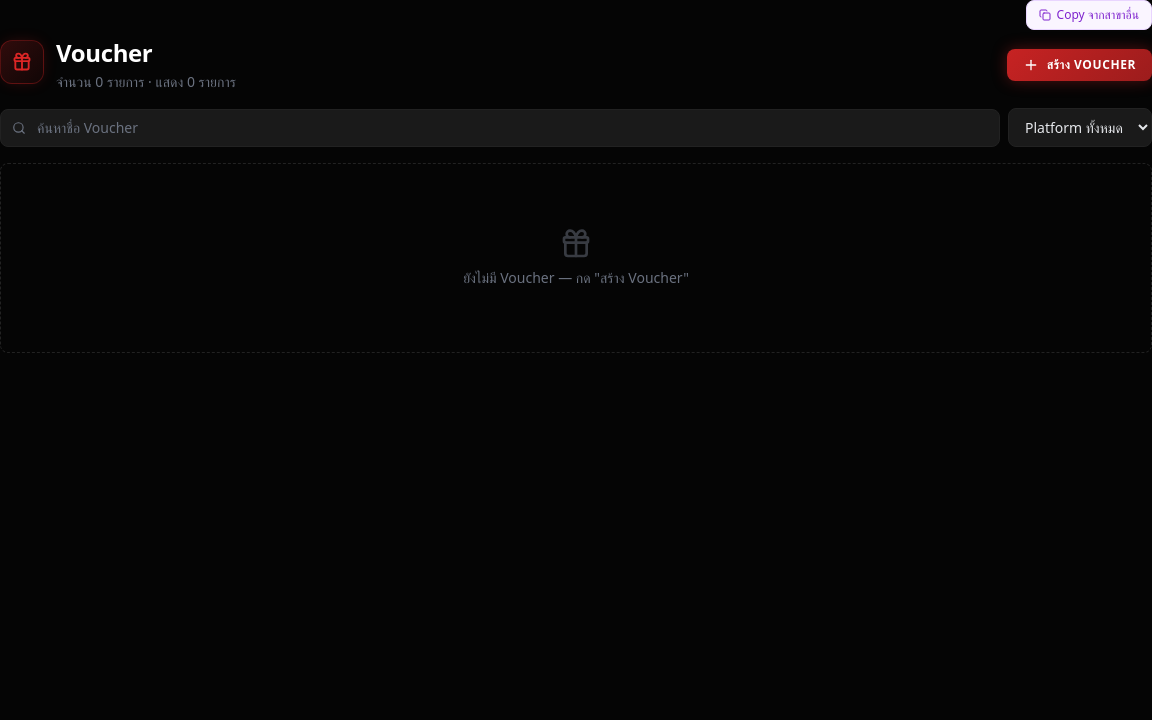
VoucherTab — create + validate › VC5 period toggle shows DateField
The image size is (1152, 720).
Click the button "สร้าง Voucher".
click(1079, 65)  # box left=1007, top=49, right=1151, bottom=81
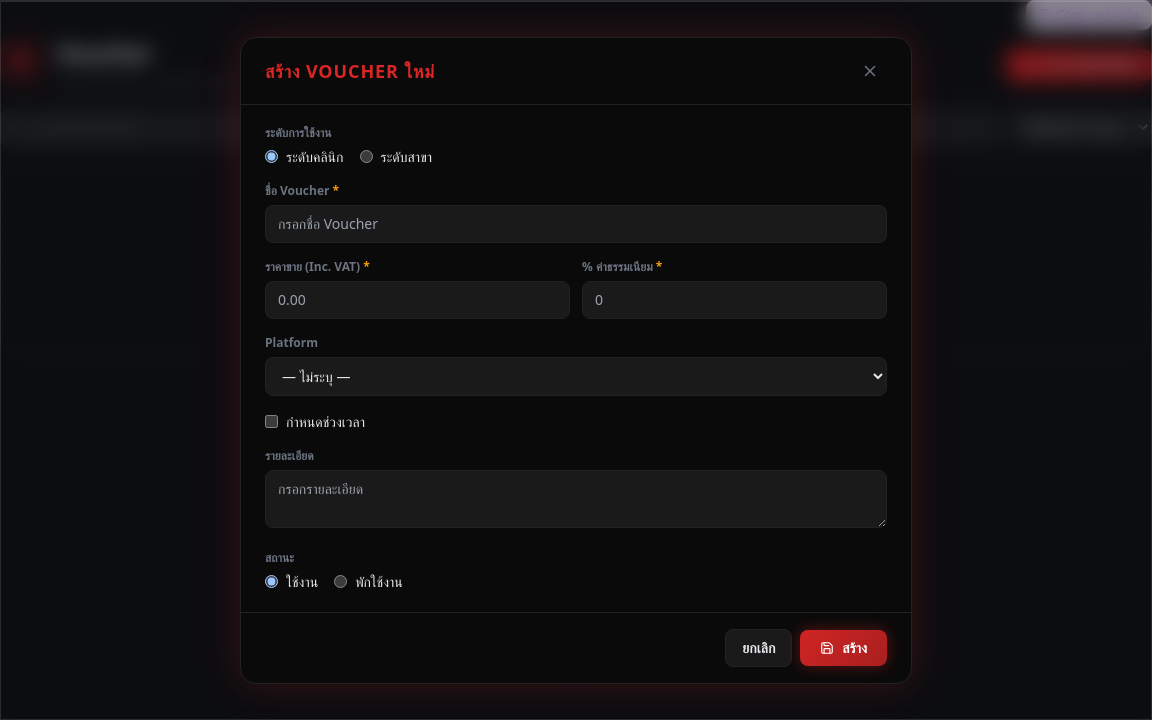
Expected: the text "วันเริ่ม" is not shown
Now the heading "สร้าง Voucher ใหม่" is shown, box left=265, top=56, right=435, bottom=84
Click the checkbox labelled "กำหนดช่วงเวลา".
click(272, 422)  # box left=265, top=415, right=278, bottom=428
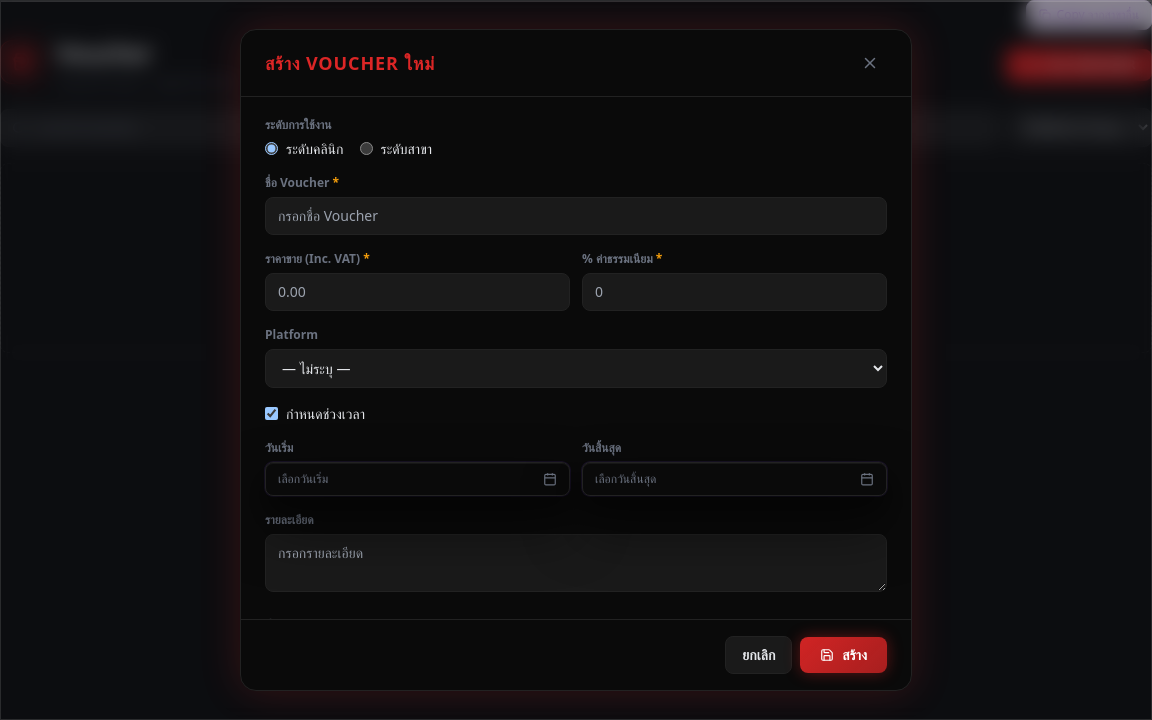
Now the text "วันเริ่ม" is shown, box left=265, top=439, right=293, bottom=456
